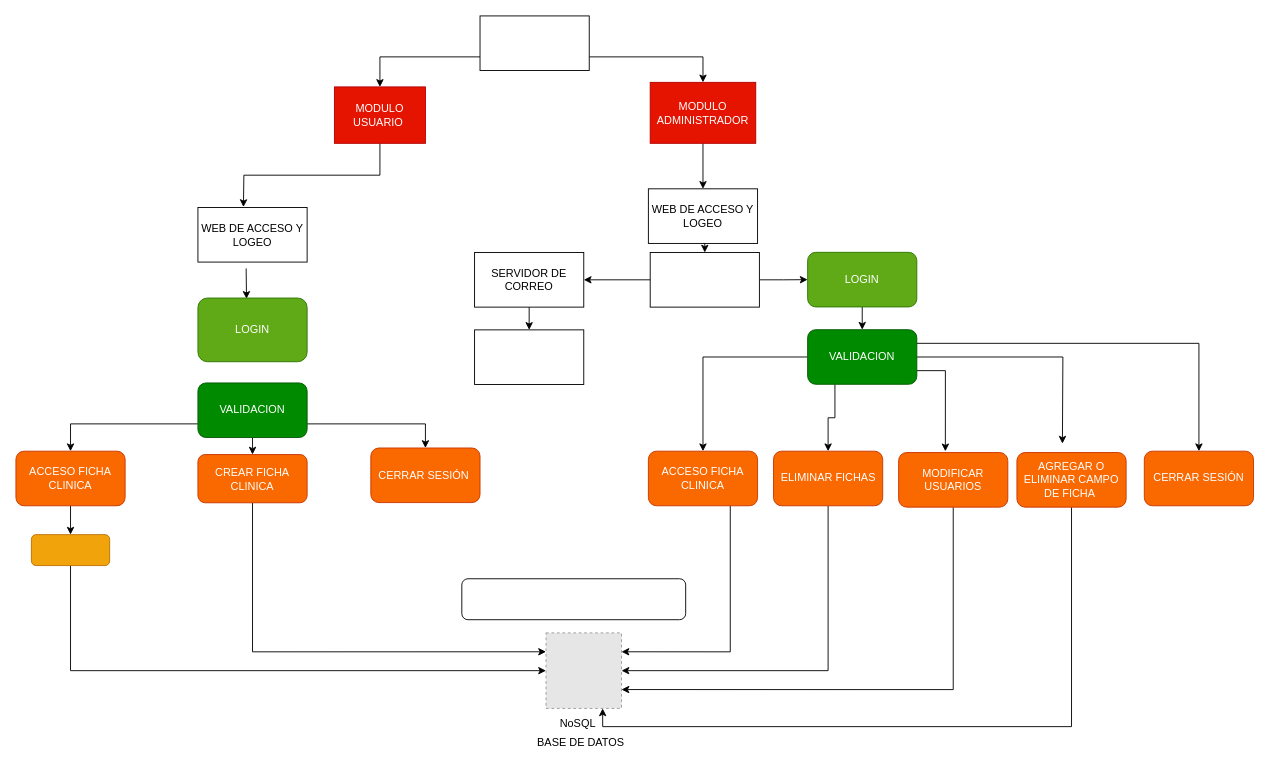
The diagram is 1269 pixels wide and 767 high, and some of its shapes have lost their labels. Grey dashed boxes stand in for pictures. Each missing label, with the centre of its shape:
ADMINISTRADOR: (x=704, y=279)
FRAMEWORK (VUETIFY): (x=573, y=599)
INTERNET: (x=534, y=43)
MOTOR BUSQUEDA: (x=70, y=550)
SERVIDOR WEB: (x=529, y=356)
